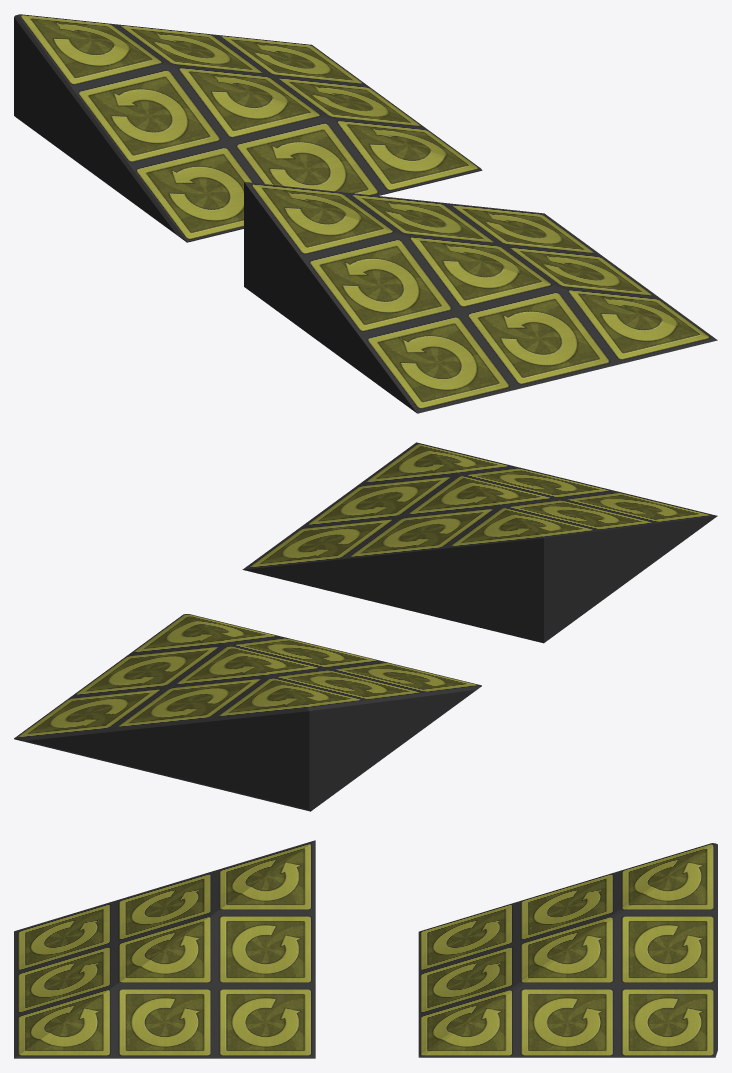
Rendered from slope.outsideCorner.3x3.fbx.
The picture shows the model from 3 angles, top to bottom: view 1: azimuth 30°, elevation 25°; view 2: azimuth 150°, elevation 25°; view 3: azimuth 270°, elevation 25°; orthographic projection. The views are drawn at different scales.
Parts seen in each view (by area): view 1: MESH slope.outsideCorner.3x3, MESH slope.outsideCorner.3x3.c; view 2: MESH slope.outsideCorner.3x3, MESH slope.outsideCorner.3x3.c; view 3: MESH slope.outsideCorner.3x3, MESH slope.outsideCorner.3x3.c.
Part boxes in pixels (bbox=[...]): MESH slope.outsideCorner.3x3: bbox=[244, 182, 717, 413]; MESH slope.outsideCorner.3x3.c: bbox=[14, 14, 482, 242]; MESH slope.outsideCorner.3x3: bbox=[242, 442, 717, 643]; MESH slope.outsideCorner.3x3.c: bbox=[14, 614, 481, 811]; MESH slope.outsideCorner.3x3: bbox=[14, 840, 315, 1058]; MESH slope.outsideCorner.3x3.c: bbox=[418, 843, 717, 1057].
Size of what is drawn, in the model's own units: 300 by 100 by 700.
